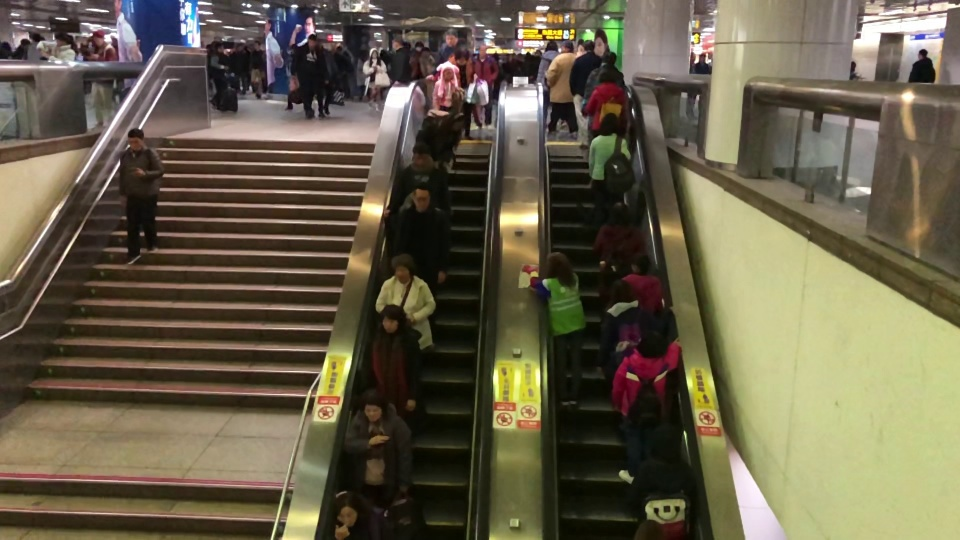person_head: (648, 423, 682, 458), (638, 330, 668, 359), (360, 389, 387, 419), (379, 304, 405, 334), (391, 253, 414, 282), (545, 251, 569, 277), (412, 183, 432, 211), (410, 141, 431, 167), (610, 279, 632, 303), (608, 203, 631, 224), (631, 250, 651, 273), (599, 113, 619, 135), (126, 127, 144, 148), (453, 47, 471, 62), (421, 116, 437, 132), (602, 50, 617, 65), (92, 29, 105, 46), (444, 28, 457, 45), (599, 70, 616, 83), (54, 33, 71, 44), (560, 40, 574, 52), (391, 35, 402, 50), (545, 39, 558, 51), (308, 34, 317, 48), (582, 40, 593, 51), (30, 32, 40, 44), (917, 48, 927, 59), (479, 44, 487, 57), (415, 40, 424, 51), (849, 60, 857, 71), (698, 52, 705, 64), (216, 43, 223, 53), (371, 47, 377, 58), (689, 52, 695, 62), (253, 40, 260, 48)
person_vbox: (611, 330, 682, 484), (521, 251, 586, 407), (344, 388, 416, 508), (594, 279, 674, 383), (630, 424, 698, 540), (363, 305, 422, 420), (118, 127, 166, 268), (392, 184, 452, 288), (375, 253, 437, 352), (591, 202, 648, 299), (382, 141, 451, 220), (588, 112, 633, 220), (568, 40, 601, 150), (82, 30, 118, 130), (544, 39, 580, 138), (583, 69, 629, 141), (294, 34, 327, 120), (620, 250, 664, 313), (447, 47, 474, 142), (472, 43, 499, 132), (583, 50, 622, 107), (362, 47, 388, 113), (536, 39, 558, 116), (210, 42, 229, 108), (431, 29, 458, 74), (36, 33, 74, 62), (390, 34, 411, 82), (907, 47, 935, 83), (250, 41, 264, 99), (686, 51, 696, 119), (409, 39, 424, 78), (23, 31, 40, 58), (696, 52, 709, 74), (849, 59, 860, 79)
